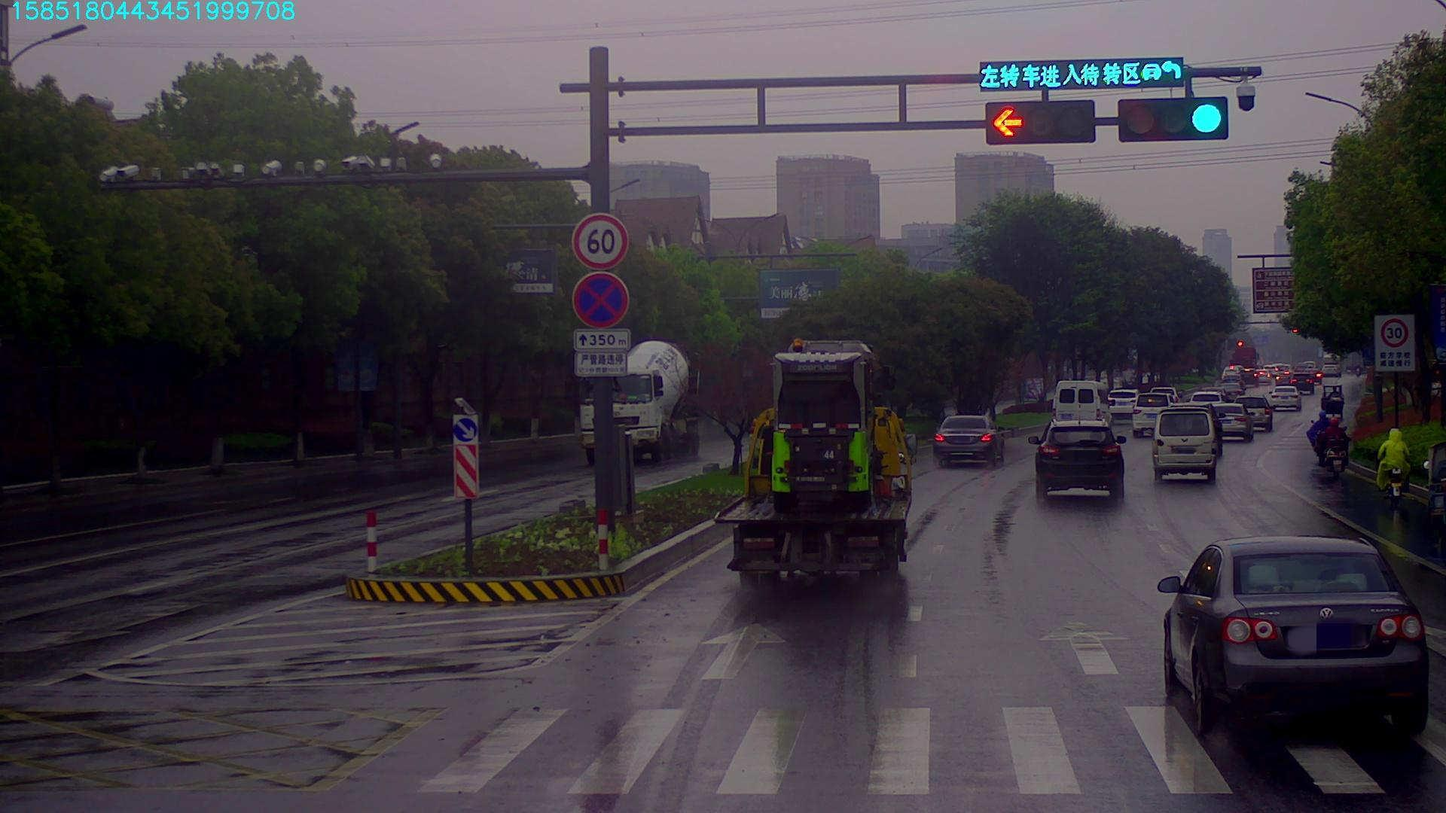green: (1124, 96, 1230, 142)
red: (985, 105, 1091, 144)
wait_on: (972, 62, 1180, 87)
